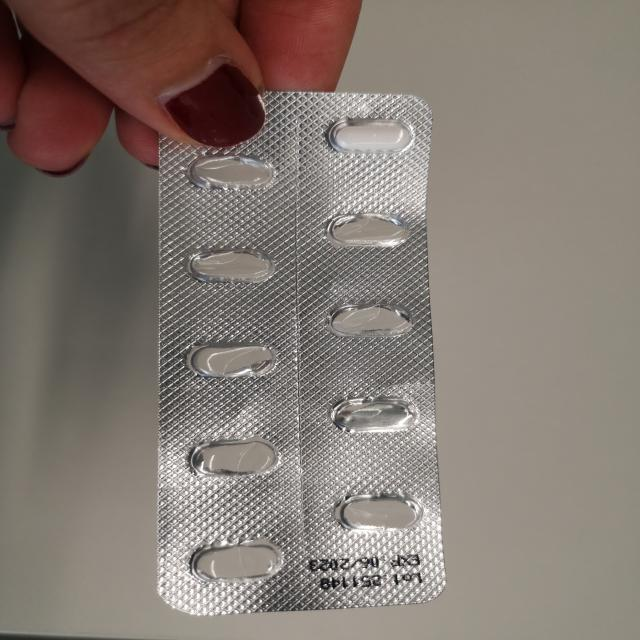Pill: (192, 537, 284, 583), (191, 338, 282, 379), (186, 154, 283, 189), (194, 438, 278, 476), (326, 118, 412, 154), (330, 405, 422, 438), (192, 248, 274, 284), (327, 306, 413, 340), (329, 216, 407, 251), (337, 494, 415, 529)
